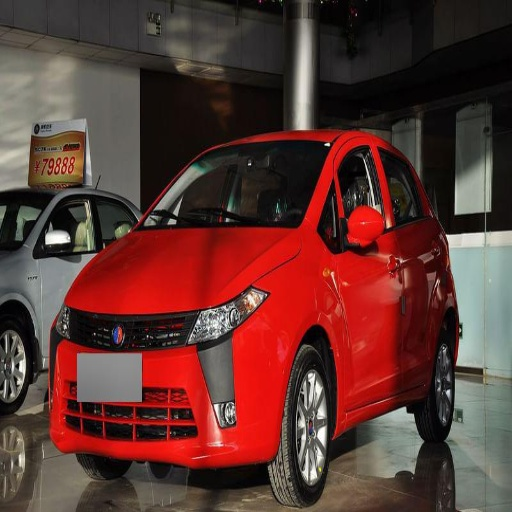front_bumper: (56, 309, 295, 468)
front_glass: (137, 140, 331, 229)
front_left_door: (329, 142, 409, 409)
